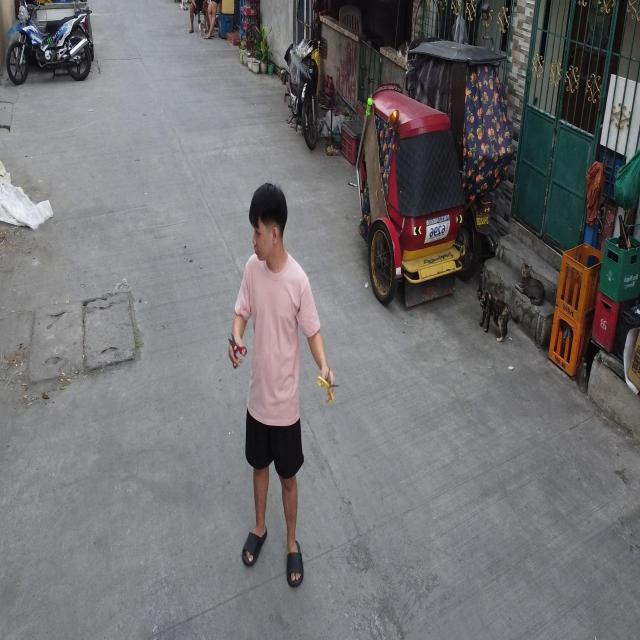scissor: (317, 366, 340, 403), (228, 332, 248, 370)
